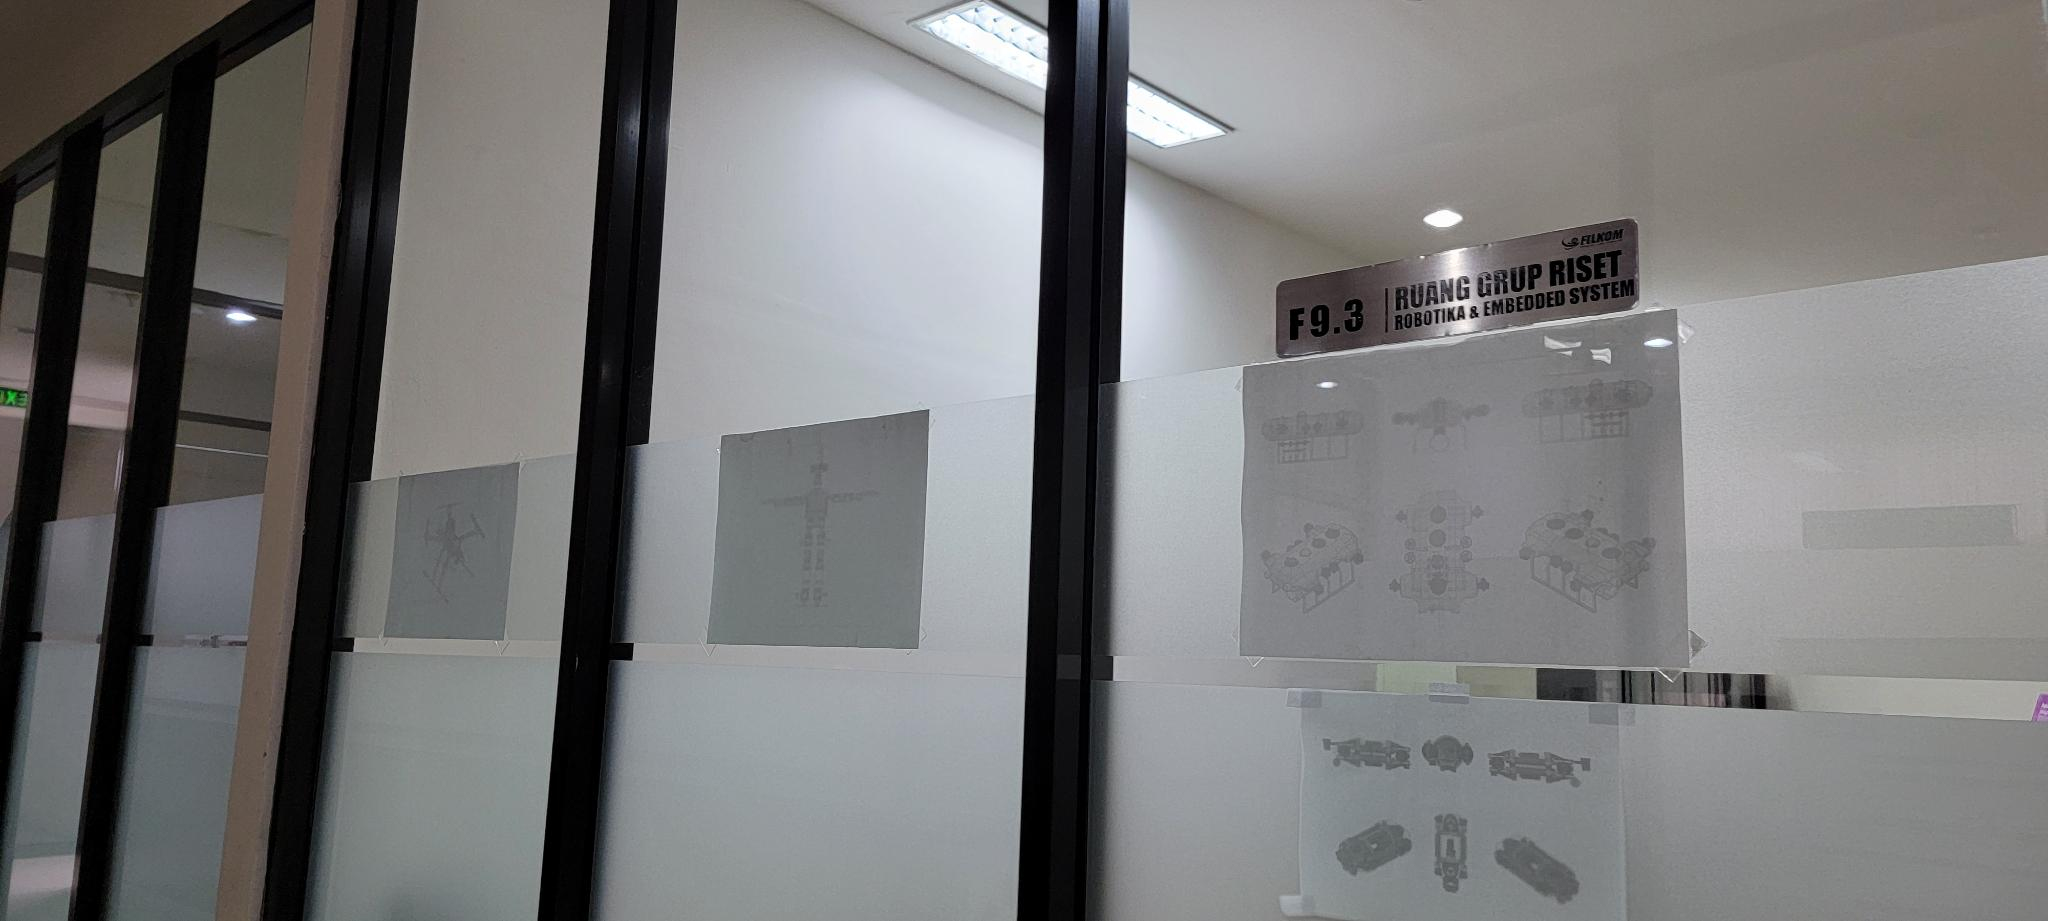plate: (1273, 213, 1642, 361)
